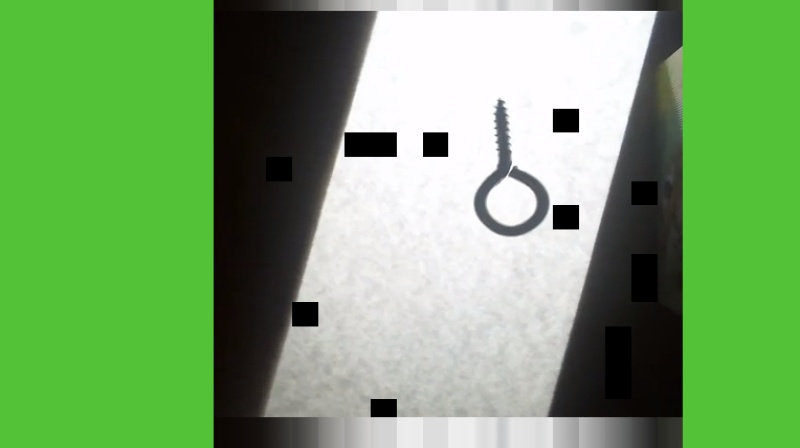O001: (472, 94, 552, 240)
